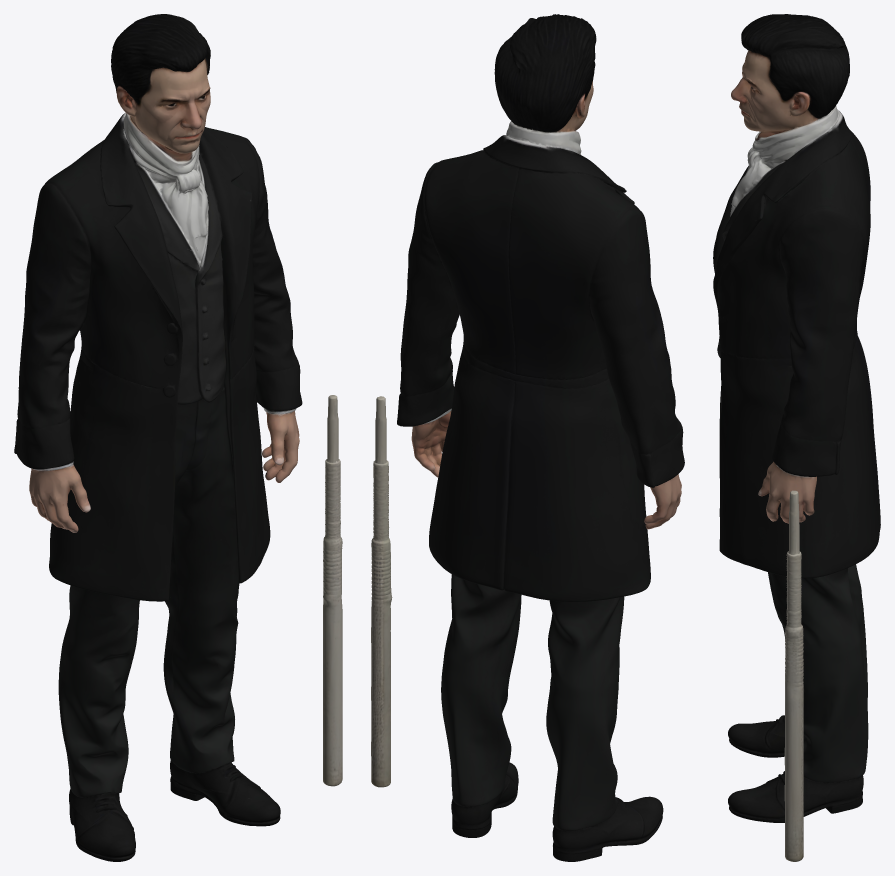
Rendered from rochester.glb.
The picture shows the model from 3 angles, left to right: view 1: azimuth 30°, elevation 25°; view 2: azimuth 150°, elevation 25°; view 3: azimuth 270°, elevation 25°; orthographic projection. The views are drawn at different scales.
Visible parts, largest first — view 1: mesh; view 2: mesh; view 3: mesh.
Boxes of the visible parts, x1,y1,x2,y2 form: mesh: (14, 14, 342, 861); mesh: (371, 14, 684, 861); mesh: (713, 14, 880, 861).
Bounding box in the file's own units: 0.7484 × 1.85 × 0.3682.
1 material, 1 textured.
